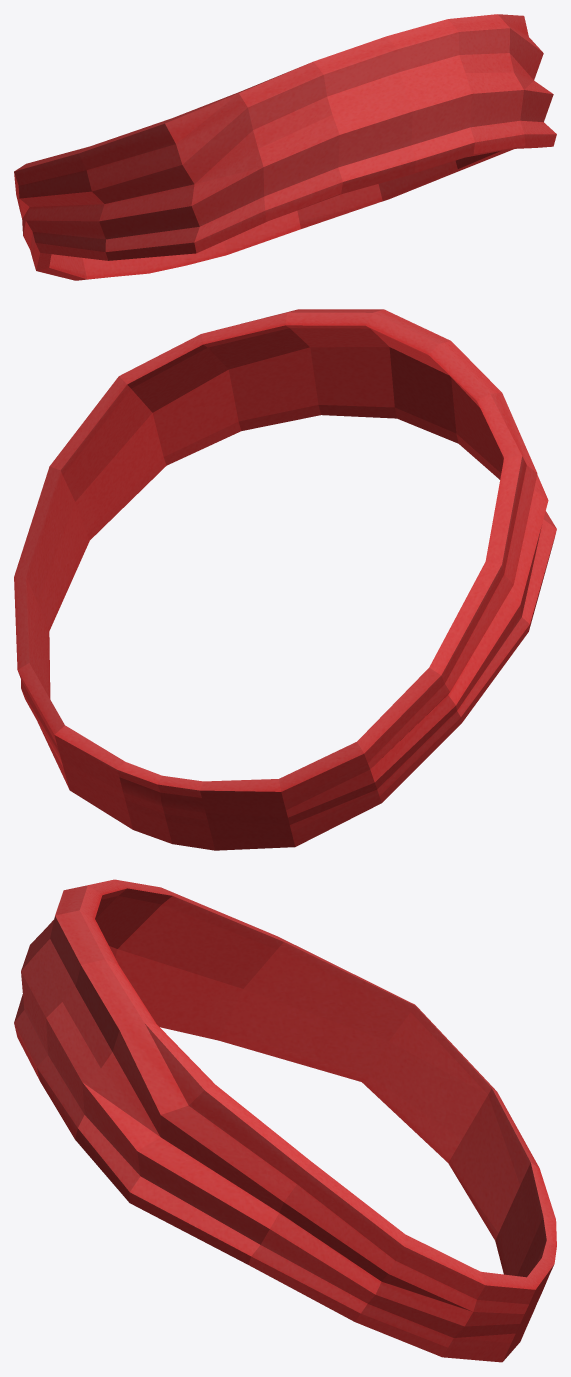
The model's file is Sports_HeadBand.fbx.
3 views of the same model, one above another, from view 1: azimuth 30°, elevation 25°; view 2: azimuth 150°, elevation 25°; view 3: azimuth 270°, elevation 25° (orthographic). The views are drawn at different scales.
Visible parts, largest first — view 1: Sports_headband; view 2: Sports_headband; view 3: Sports_headband.
Part boxes in pixels (x1,y1,x2,y2): Sports_headband: [14, 14, 556, 280]; Sports_headband: [14, 309, 556, 850]; Sports_headband: [14, 879, 556, 1362].
Size of the model in its own units: 3.74 by 3.06 by 3.63.
Materials: 1 (1 with a texture image).
